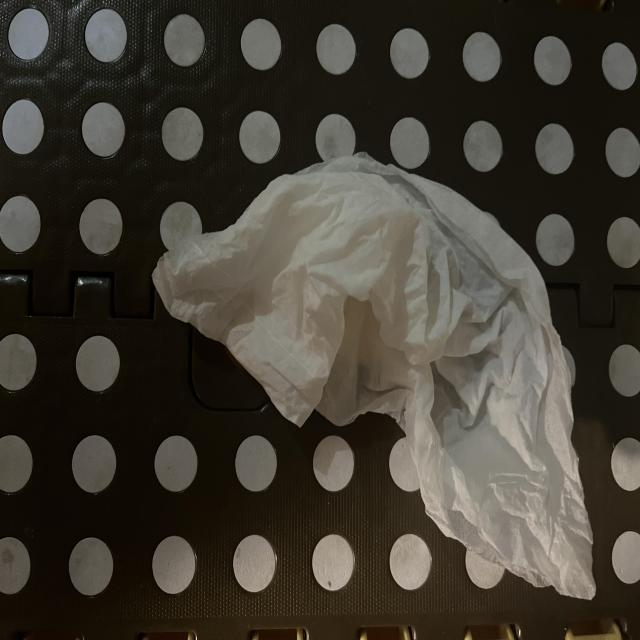衛生紙: (206, 115, 640, 450)
